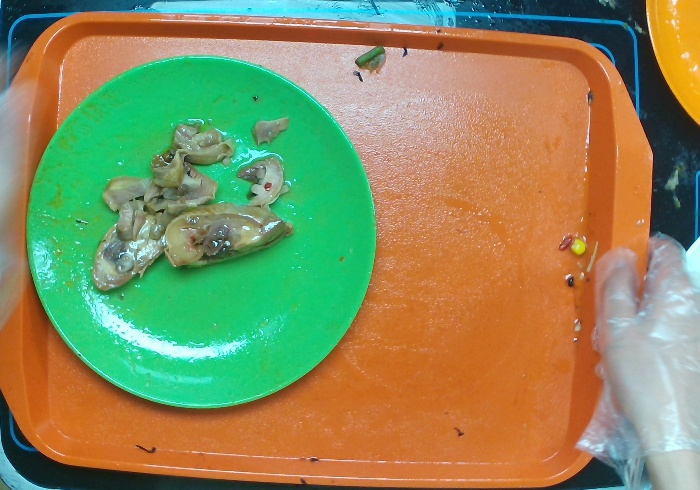HZYJPL-Lv_Se_Yuan_Pan: (11, 50, 397, 423)
